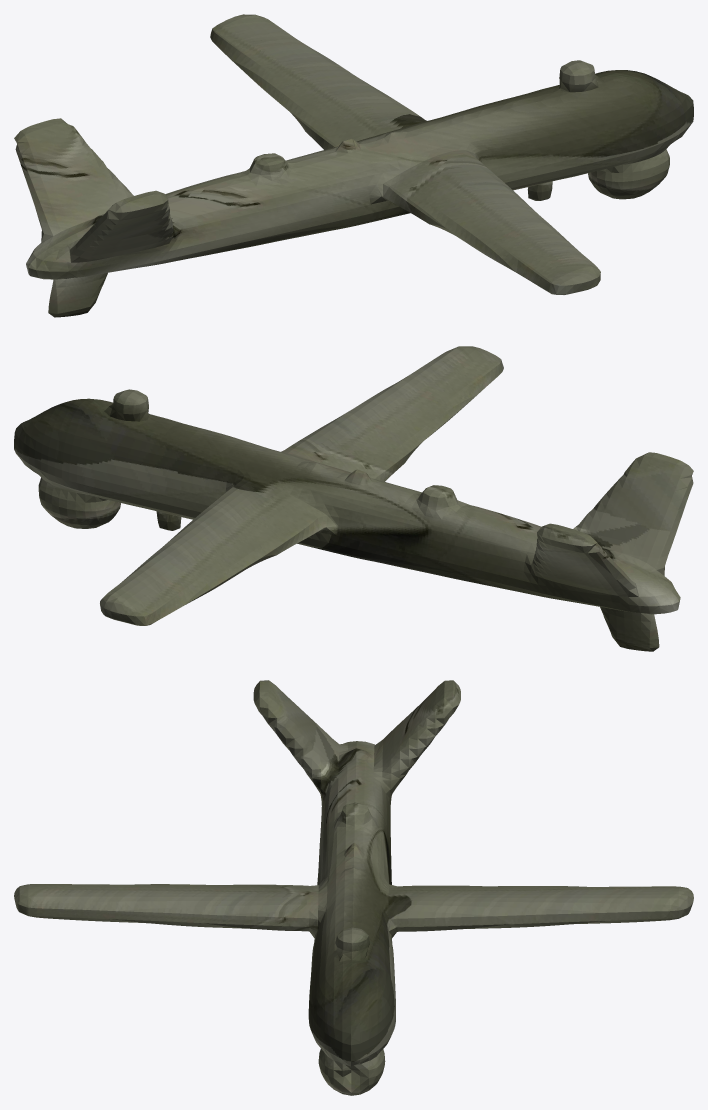
Rendered from uav.glb.
3 views of the same model, one above another, from view 1: azimuth 30°, elevation 25°; view 2: azimuth 150°, elevation 25°; view 3: azimuth 270°, elevation 25° (orthographic). The views are drawn at different scales.
Visible parts, largest first — view 1: geometry_0; view 2: geometry_0; view 3: geometry_0.
Boxes of the visible parts, x1,y1,x2,y2 form: geometry_0: (14, 14, 693, 317); geometry_0: (14, 346, 693, 651); geometry_0: (14, 680, 693, 1095).
Bounding box in the file's own units: 4 × 0.9525 × 3.73.
1 material, 1 textured.
